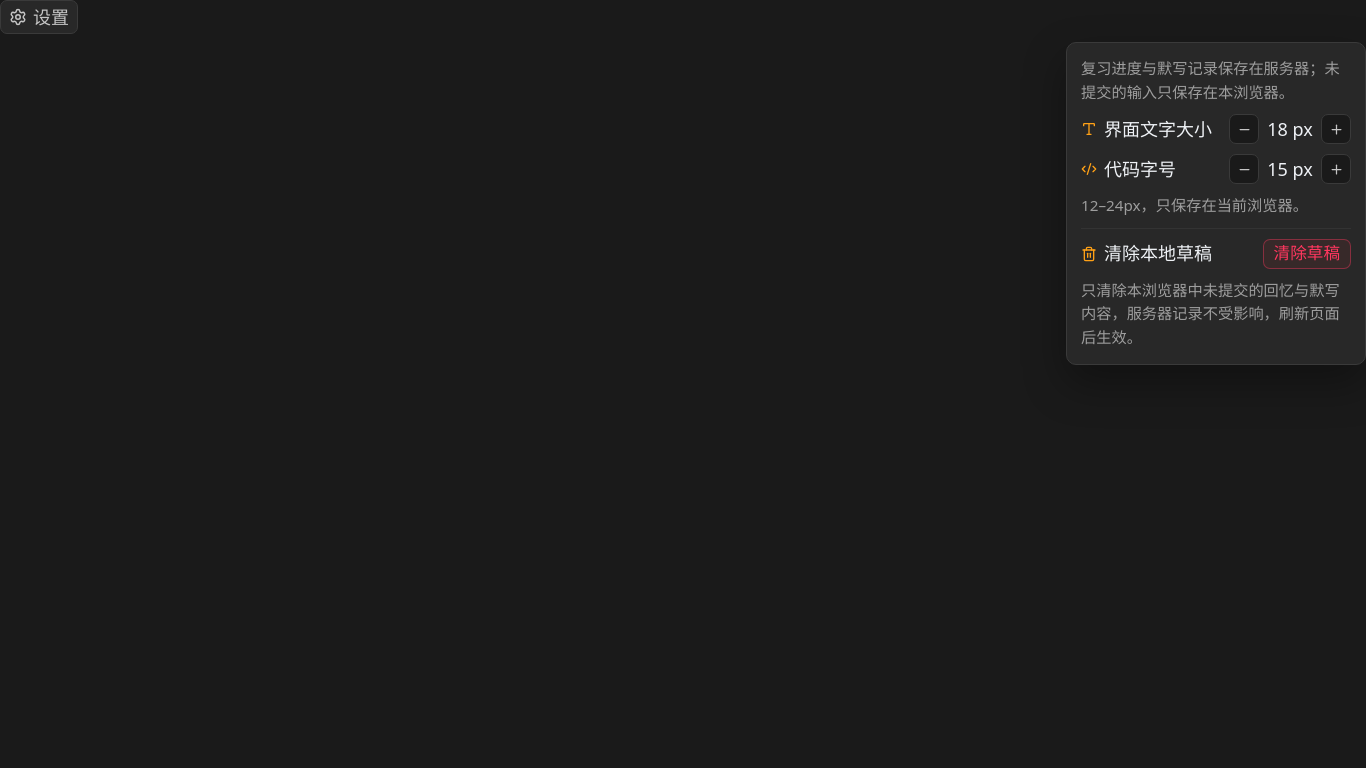
Test: SettingsMenu › 清除本地草稿时不动字号偏好
Click the button with class "danger" at [1307, 254], box x1=1262 y1=239 x2=1351 y2=269
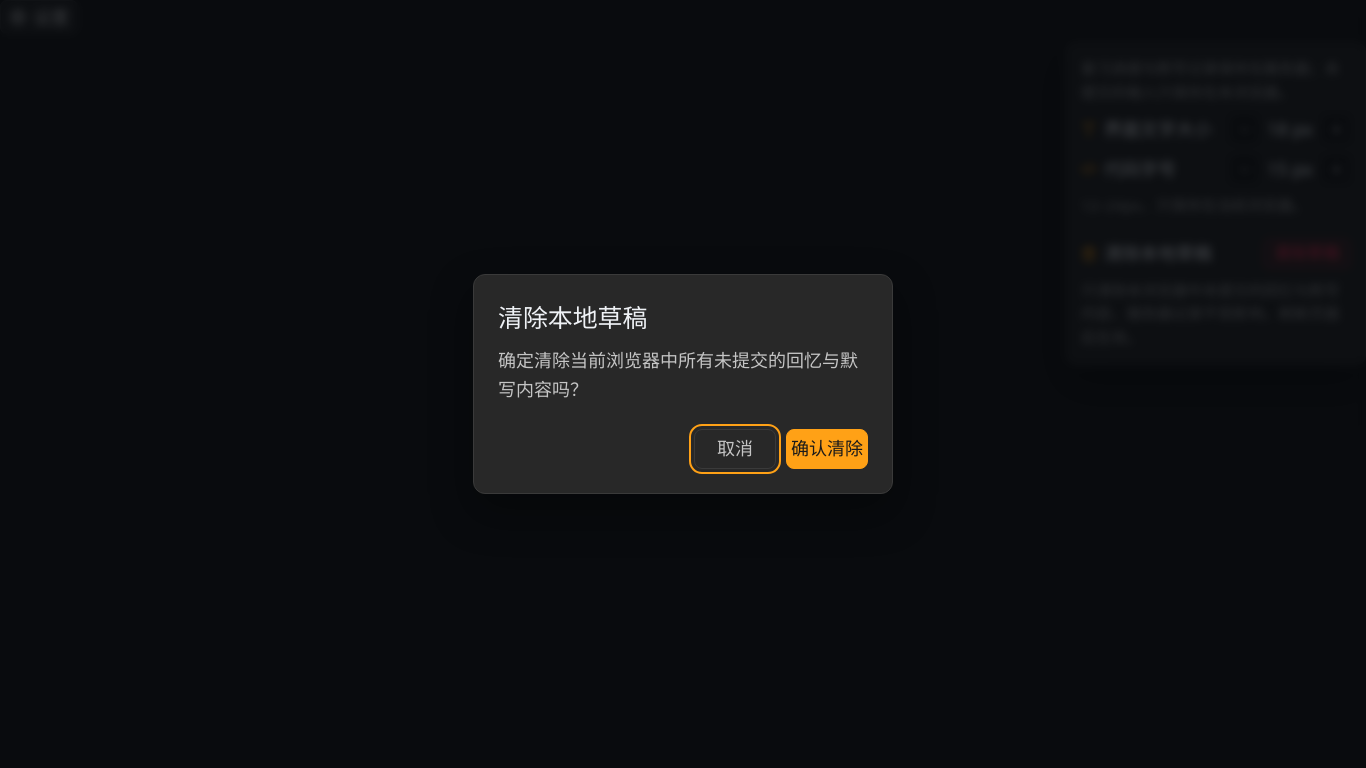
Click the button "确认清除" at [827, 449], box x1=786 y1=429 x2=868 y2=469
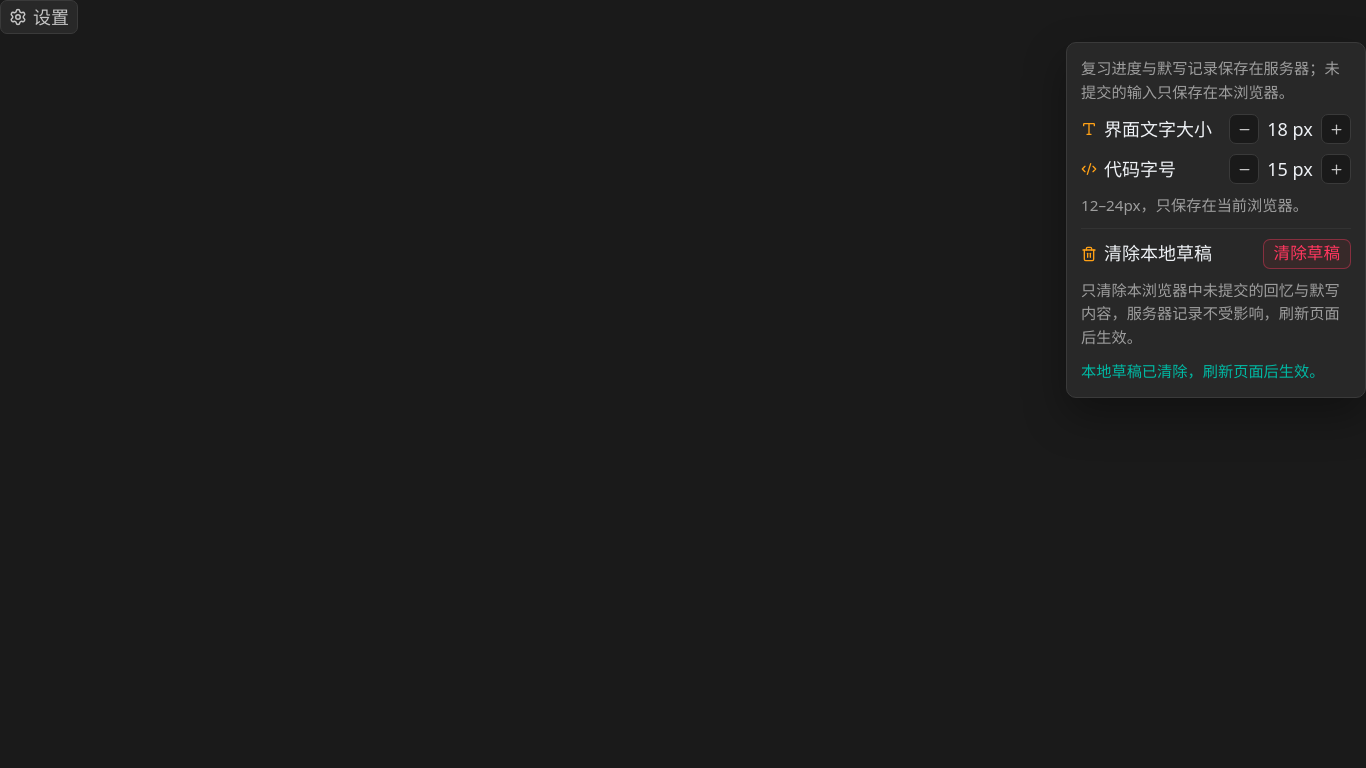
Expected: the message with class "cleared" shows "本地草稿已清除", x1=1081 y1=361 x2=1324 y2=381
